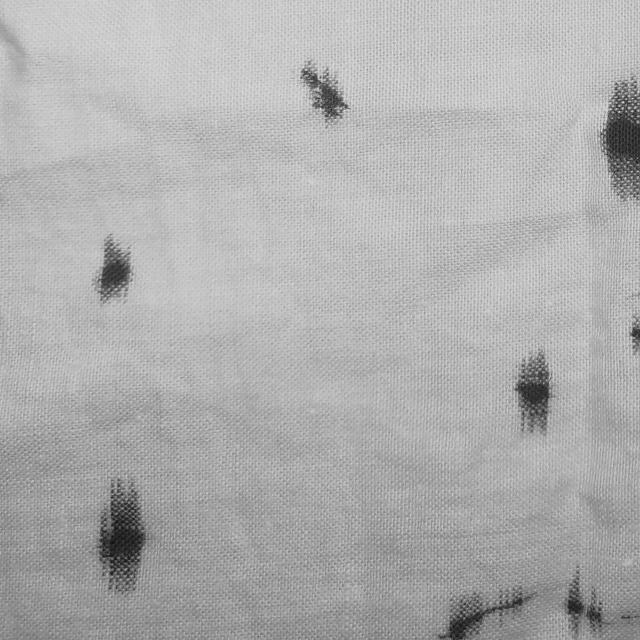Stain: (98, 479, 145, 594), (439, 588, 533, 640), (602, 77, 640, 199), (563, 564, 611, 639), (515, 350, 551, 435), (300, 60, 348, 122), (92, 234, 132, 303), (628, 292, 640, 355), (621, 609, 640, 624)
